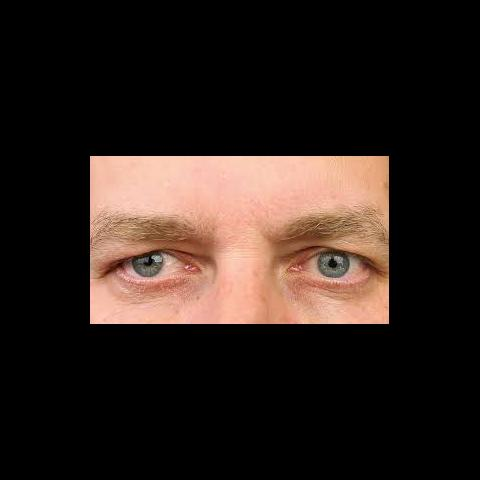opened: (102, 216, 378, 299)
